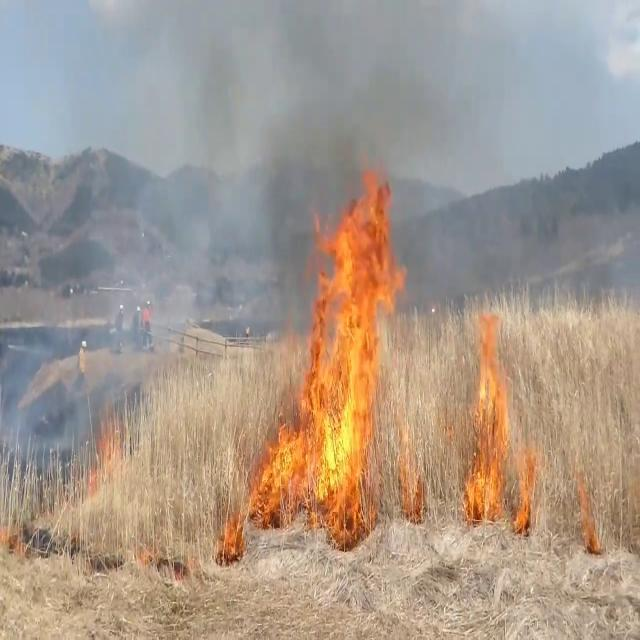Fire: (258, 153, 408, 522), (462, 313, 540, 527)
Smoke: (159, 0, 348, 382)
